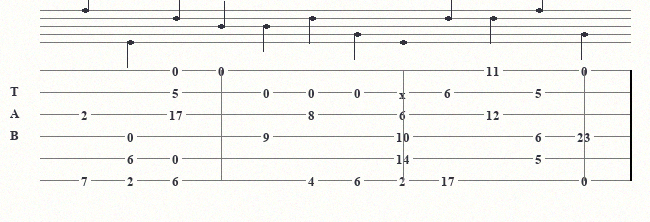0: (127, 130, 138, 143), (172, 64, 183, 77), (172, 152, 183, 165), (218, 64, 229, 77), (263, 86, 274, 99), (308, 86, 319, 99), (354, 86, 365, 99), (581, 64, 592, 77), (581, 174, 592, 187)
10: (396, 130, 414, 143)
11: (486, 64, 504, 77)
12: (486, 108, 504, 121)
14: (396, 152, 414, 165)
17: (169, 108, 187, 121), (441, 174, 459, 187)
2: (81, 108, 92, 121), (127, 174, 138, 187), (399, 174, 410, 187)
23: (577, 130, 595, 143)
4: (308, 174, 319, 187)
5: (172, 86, 183, 99), (535, 152, 546, 165), (535, 86, 546, 99)
6: (127, 152, 138, 165), (172, 174, 183, 187), (354, 174, 365, 187), (399, 108, 410, 121), (444, 86, 455, 99), (535, 130, 546, 143)
7: (81, 174, 92, 187)
8: (308, 108, 319, 121)
9: (263, 130, 274, 143)
x: (399, 87, 410, 97)
